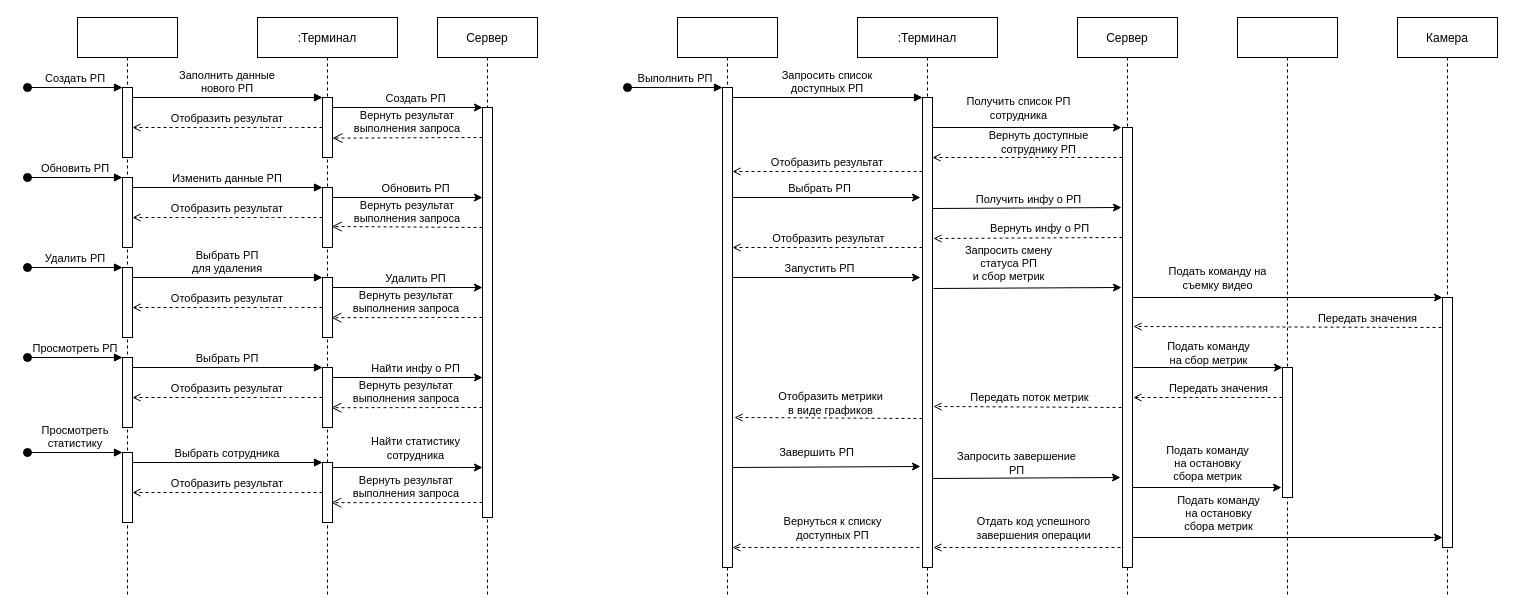
This 1515x615 diagram has some shape labels left out. The box of each missing label's shape, as (x1, y1, x2, y2) in pixels:
:Администратор: (76, 16, 178, 598)
:Сотрудник: (676, 16, 778, 598)
Часы: (1236, 16, 1338, 598)
